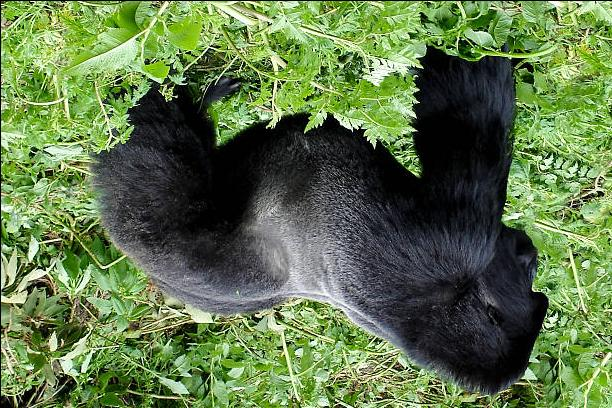goriile_montagne: (62, 29, 570, 401)
